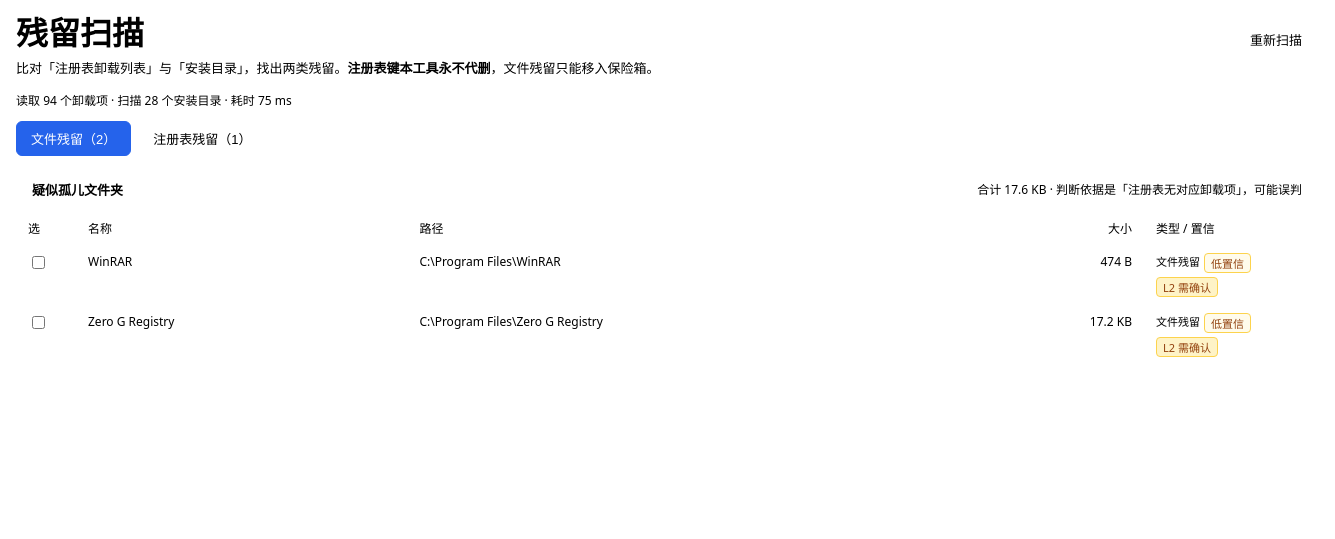
Test: 残留扫描 › 2002（安全红线）时给出明确提示，而不是笼统的失败
Expected: the text "WinRAR" is shown, left=76, top=245, right=407, bottom=305
Click the checkbox named "选择 WinRAR".
click(38, 262)  # box left=32, top=256, right=45, bottom=269
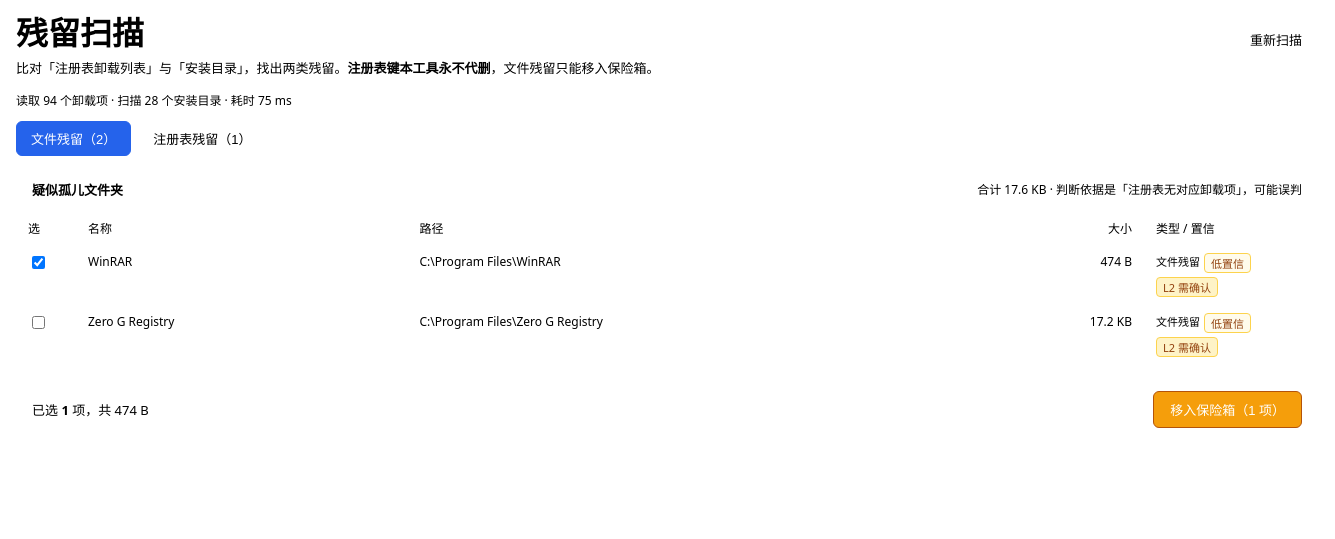
Click the button "移入保险箱（1 项）".
click(1228, 410)  # box left=1153, top=391, right=1302, bottom=428
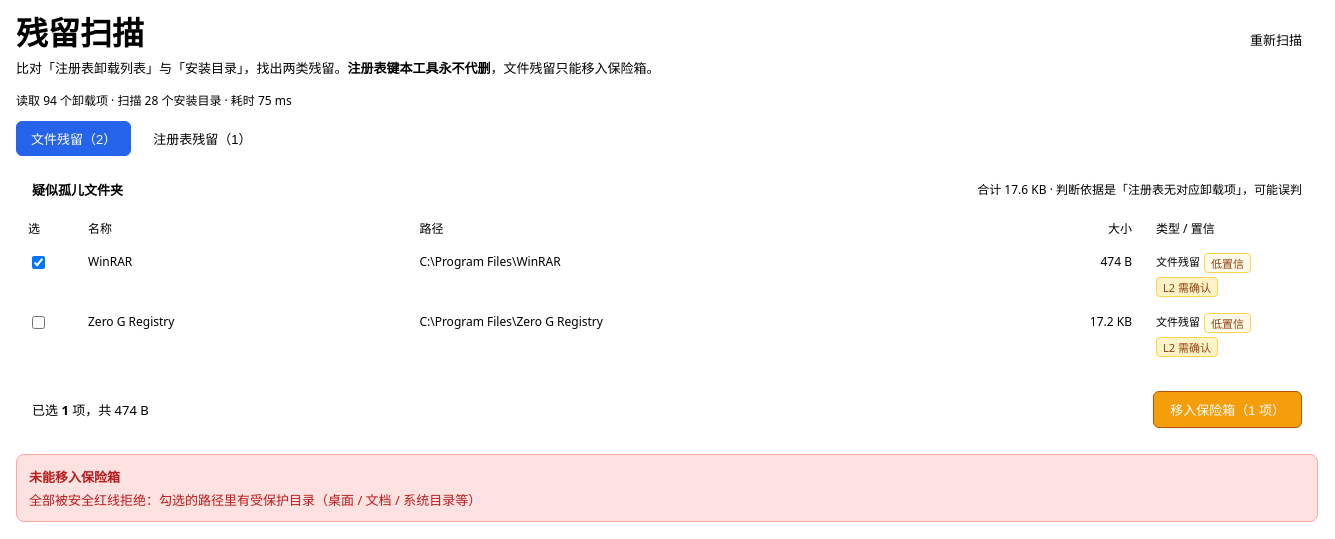
Now the text "未能移入保险箱" is shown, box left=29, top=468, right=120, bottom=486
Now the text "全部被安全红线拒绝：勾选的路径里有受保护目录（桌面 / 文档 / 系统目录等）" is shown, box left=29, top=491, right=481, bottom=509
